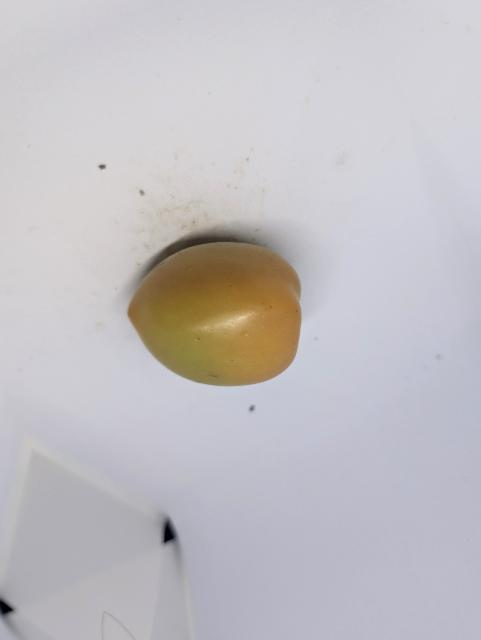breaker: (128, 242, 302, 386)
